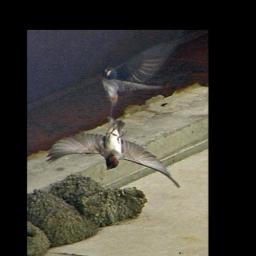Swallow: (43, 114, 183, 190)
